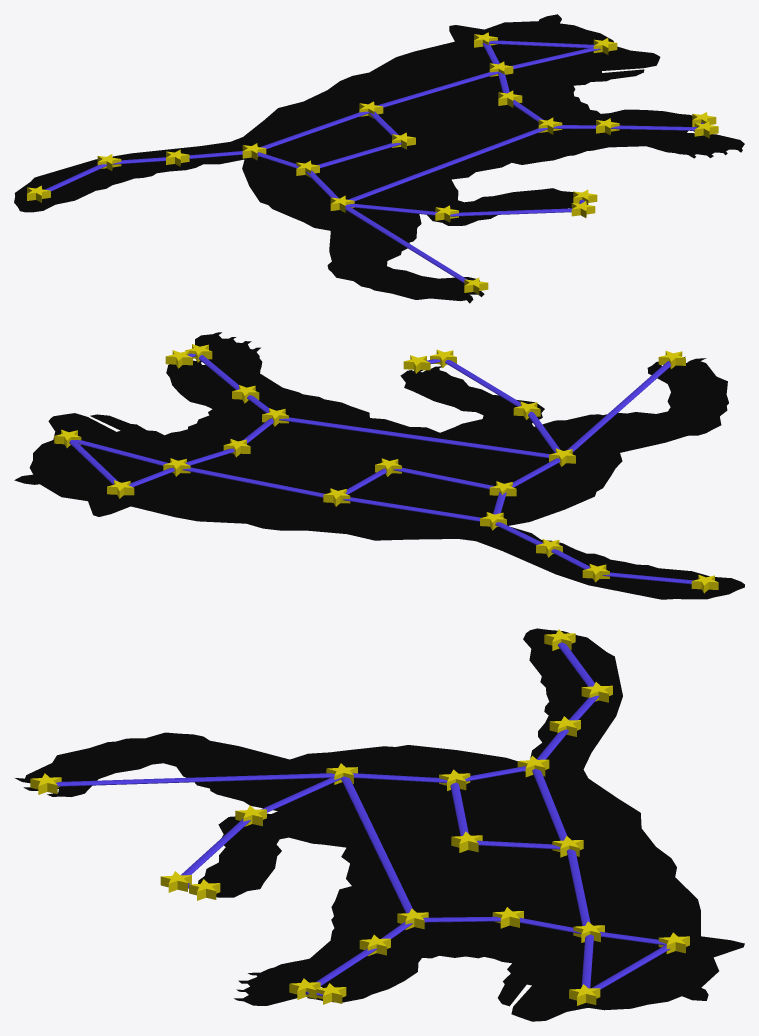
File: Ooguma-za.glb
The picture shows the model from 3 angles, top to bottom: view 1: azimuth 30°, elevation 25°; view 2: azimuth 150°, elevation 25°; view 3: azimuth 270°, elevation 25°; orthographic projection. The views are drawn at different scales.
Parts seen in each view (by area): view 1: 円, 円柱.005, 円柱.003, 円柱.014, 円柱.001, 円柱.018; view 2: 円, 円柱.005, 円柱.003, 円柱.014, 円柱.018, 円柱.001, 円柱.016, 円柱.011; view 3: 円, 円柱.003, 円柱.005, 円柱.014, 円柱.018.
Part boxes in pixels (x1=…): 円: x1=14, y1=14, x2=744, y2=303; 円柱.005: x1=348, y1=128, x2=547, y2=201; 円柱.003: x1=345, y1=205, x2=467, y2=282; 円柱.014: x1=377, y1=71, x2=498, y2=107; 円柱.001: x1=450, y1=208, x2=572, y2=216; 円柱.018: x1=260, y1=111, x2=368, y2=149; 円: x1=14, y1=332, x2=744, y2=599; 円柱.005: x1=279, y1=417, x2=549, y2=458; 円柱.003: x1=567, y1=361, x2=670, y2=452; 円柱.014: x1=182, y1=467, x2=324, y2=497; 円柱.018: x1=343, y1=497, x2=481, y2=521; 円柱.001: x1=445, y1=360, x2=520, y2=406; 円柱.016: x1=393, y1=467, x2=494, y2=489; 円柱.011: x1=74, y1=440, x2=168, y2=465; 円: x1=15, y1=628, x2=744, y2=1021; 円柱.003: x1=56, y1=773, x2=334, y2=786; 円柱.005: x1=341, y1=776, x2=412, y2=913; 円柱.014: x1=566, y1=849, x2=590, y2=925; 円柱.018: x1=532, y1=769, x2=567, y2=840.
Bounding box in the file's own units: 83.97 × 0.8959 × 65.98.
